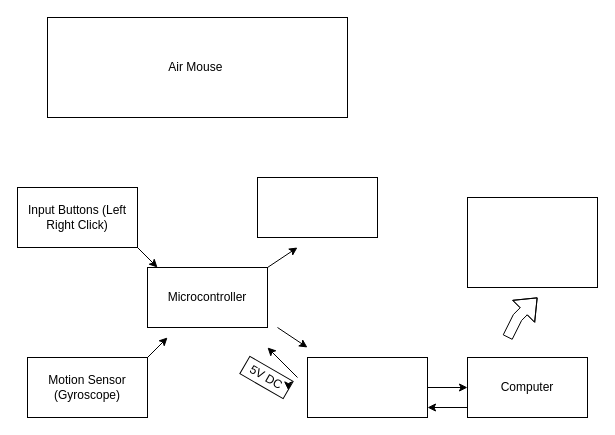
The diagram is 615 pixels wide and 435 high, and some of its shapes have lost their labels. Each missing label, with the box of its shape:
LED (ON/OFF): (256, 176, 378, 238)
Monitor: (466, 196, 598, 288)
USB-C: (306, 356, 428, 418)
